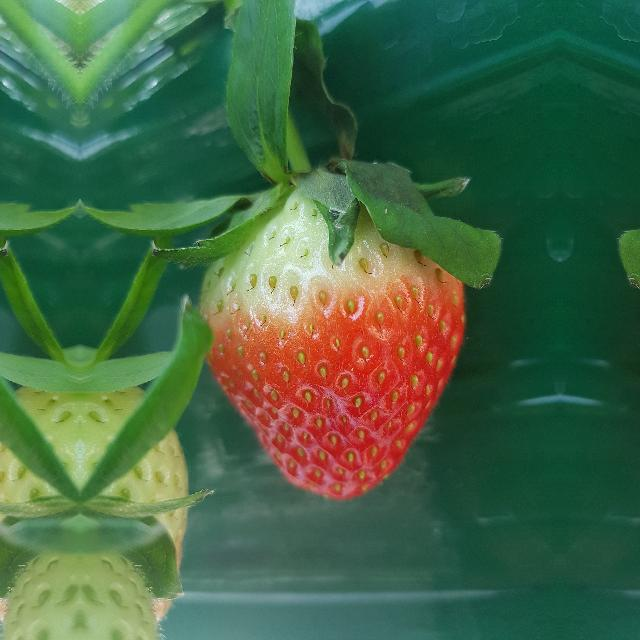Health_75: (196, 183, 467, 501)
